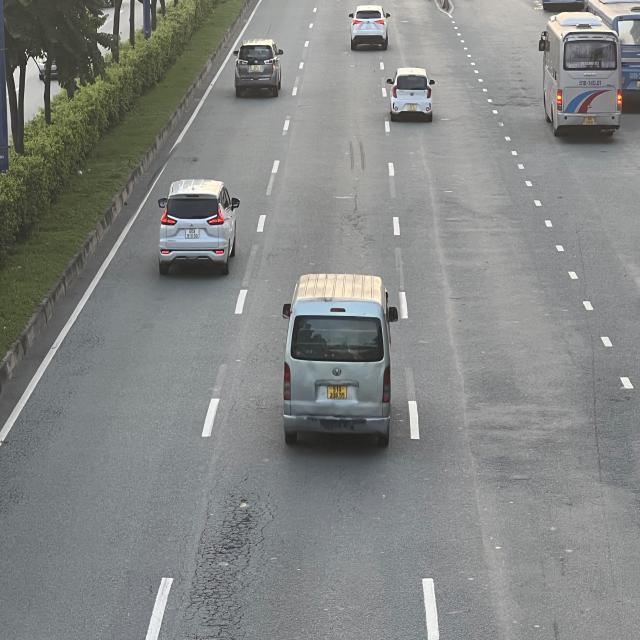car: (160, 181, 242, 276), (232, 41, 282, 98), (386, 66, 436, 121), (347, 4, 390, 50)
coach: (540, 15, 623, 136)
van: (278, 272, 395, 450)
